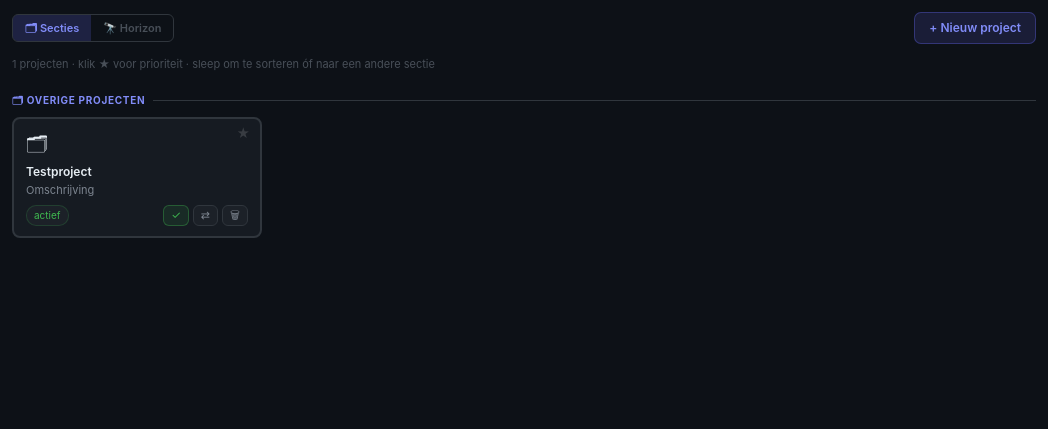
ProjectsTab — horizon-weergave › wisselt naar de horizon-weergave en toont de horizon-hint i.p.v. de sectie-hint
This screenshot has width=1048, height=429.
Click the button "🔭 Horizon" at x=132, y=28, box [91,15,174,41]
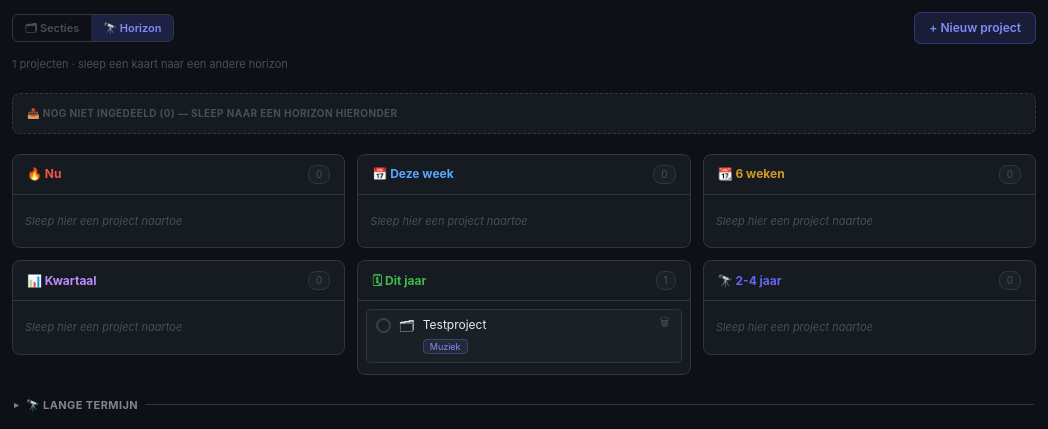
expect the text "1 projecten · sleep een kaart naar een andere horizon" is shown: met, box [12,57,288,71]
